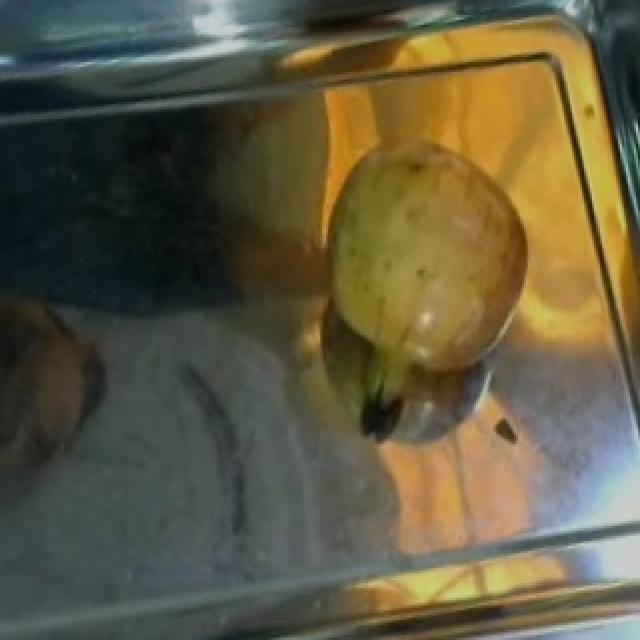fruit: (304, 112, 558, 382)
